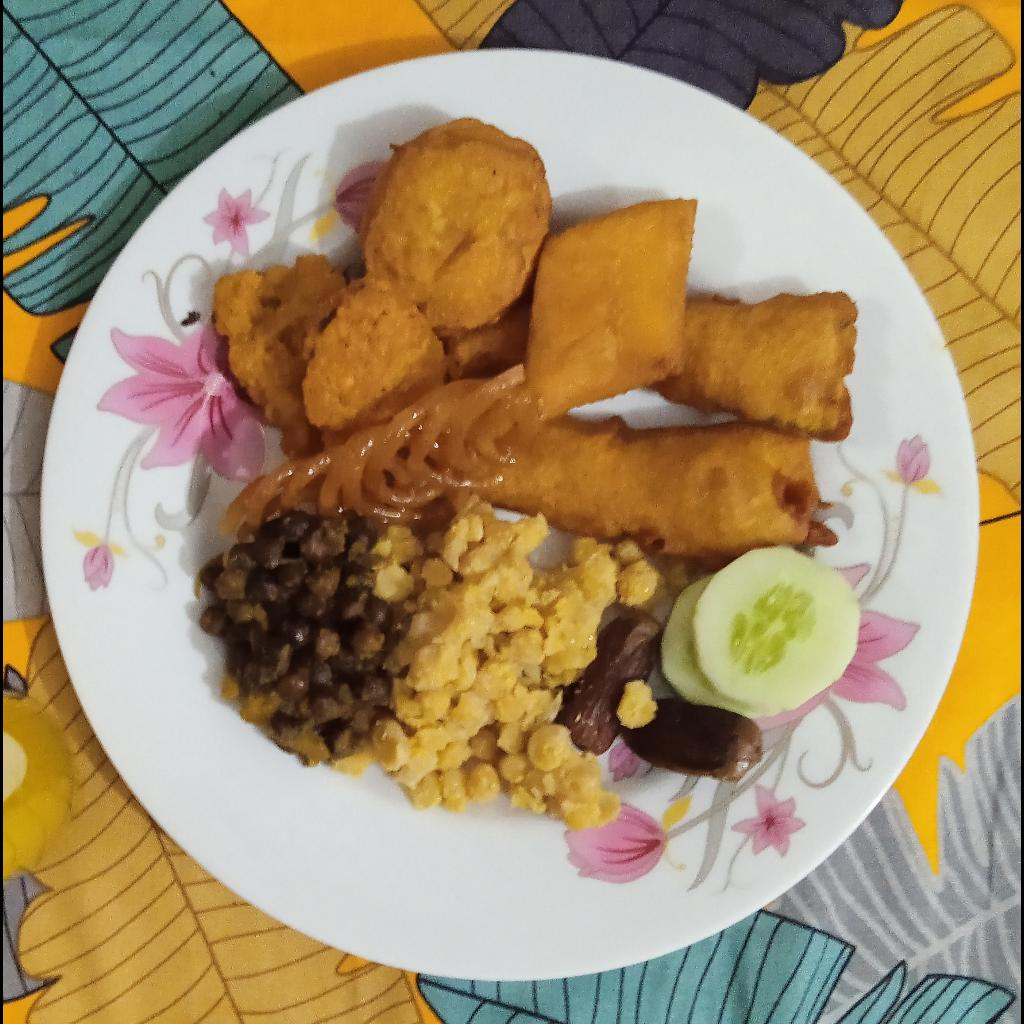beguni: (525, 199, 697, 420)
burinda: (330, 491, 660, 830), (617, 680, 658, 729)
chola: (198, 511, 394, 767)
chop-alu: (483, 291, 857, 558), (358, 117, 552, 336)
cucumber: (662, 547, 861, 717)
dates: (556, 610, 663, 756), (623, 699, 763, 781)
jilapi: (214, 364, 542, 536)
piyaju: (211, 255, 446, 461)
